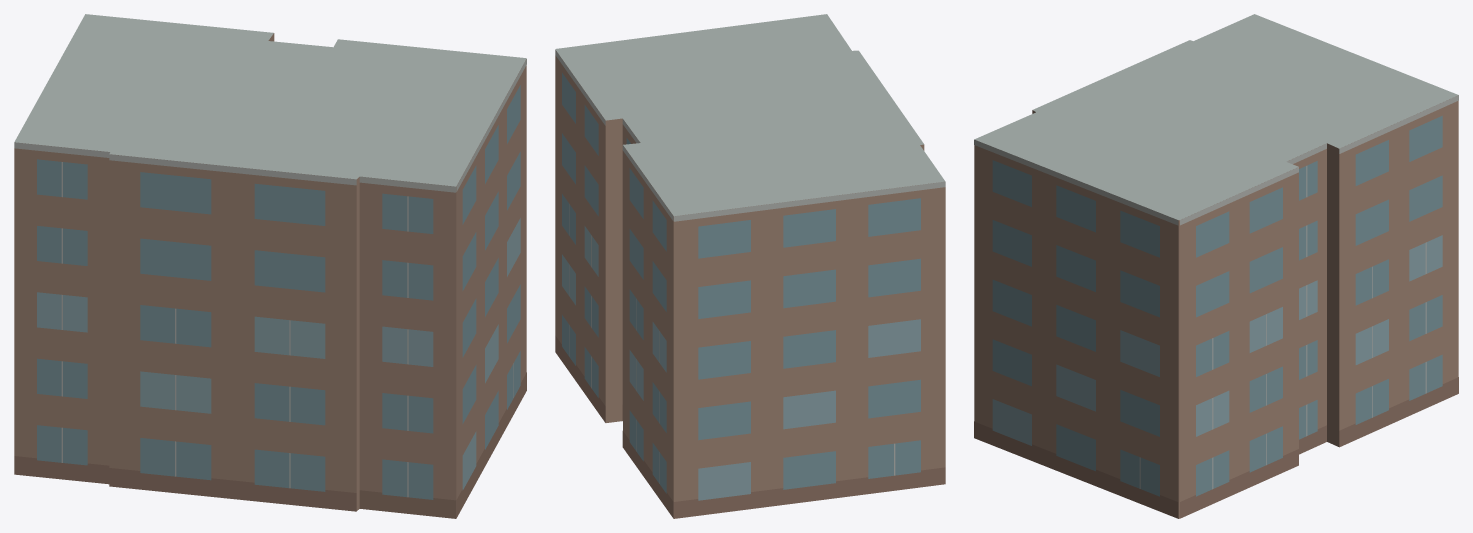
File: survey-upis-32835405.glb
The picture shows the model from 3 angles, left to right: view 1: azimuth 30°, elevation 25°; view 2: azimuth 150°, elevation 25°; view 3: azimuth 270°, elevation 25°; orthographic projection. The views are drawn at different scales.
Parts seen in each view (by area): view 1: survey-upis-32835405.tmp; view 2: survey-upis-32835405.tmp; view 3: survey-upis-32835405.tmp.
Boxes of the visible parts, left/top/right/bottom form: survey-upis-32835405.tmp: left=14, top=14, right=526, bottom=518; survey-upis-32835405.tmp: left=555, top=14, right=945, bottom=518; survey-upis-32835405.tmp: left=974, top=14, right=1458, bottom=518.
Size of the model in its own units: 19.71 by 13.3 by 19.57.
